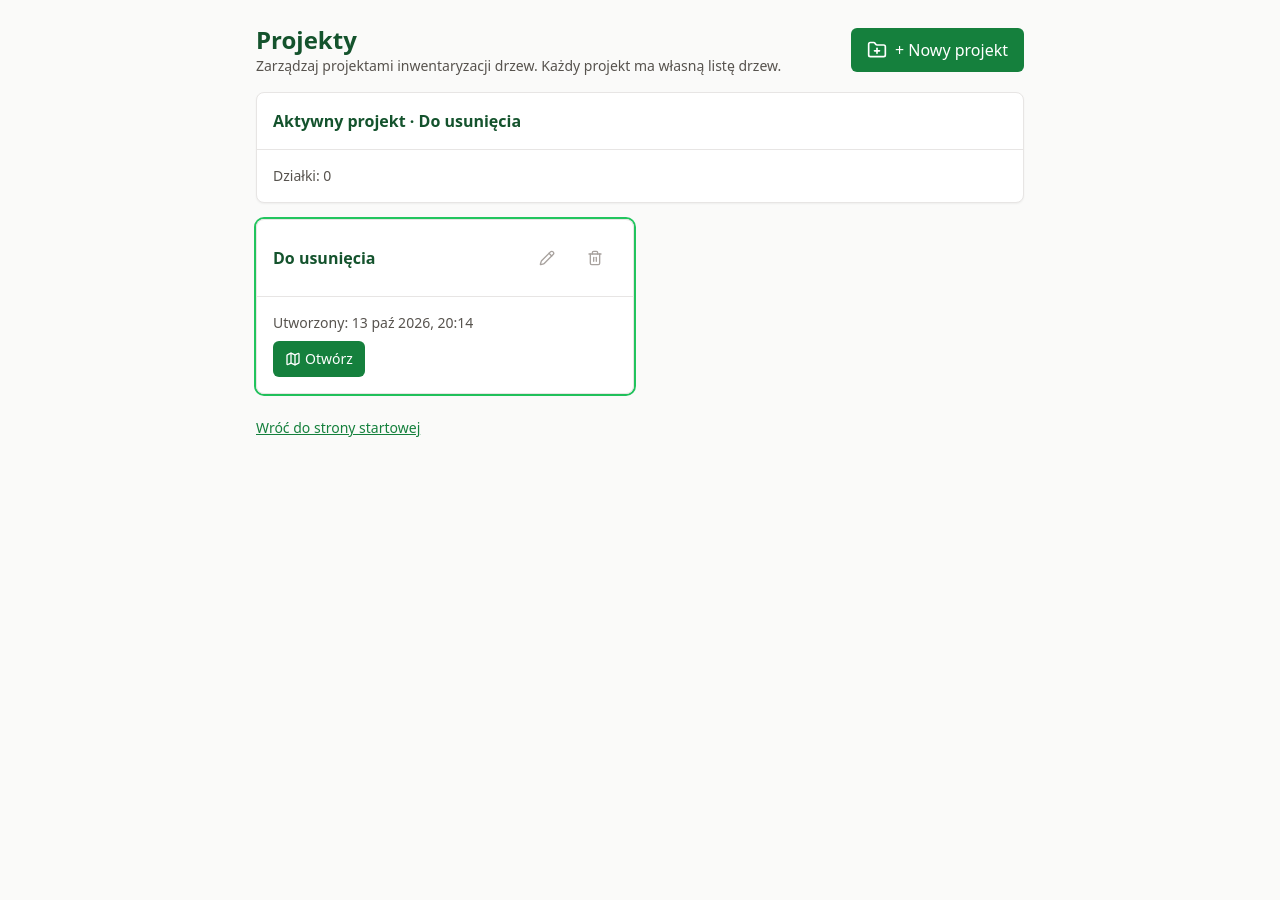
ProjectsPage › should show confirm dialog when delete clicked
Check: the text "Do usunięcia" is shown, box [273,246,376,270]
Click the button with test id "project-delete" at (595, 258), box [573,236,617,280]
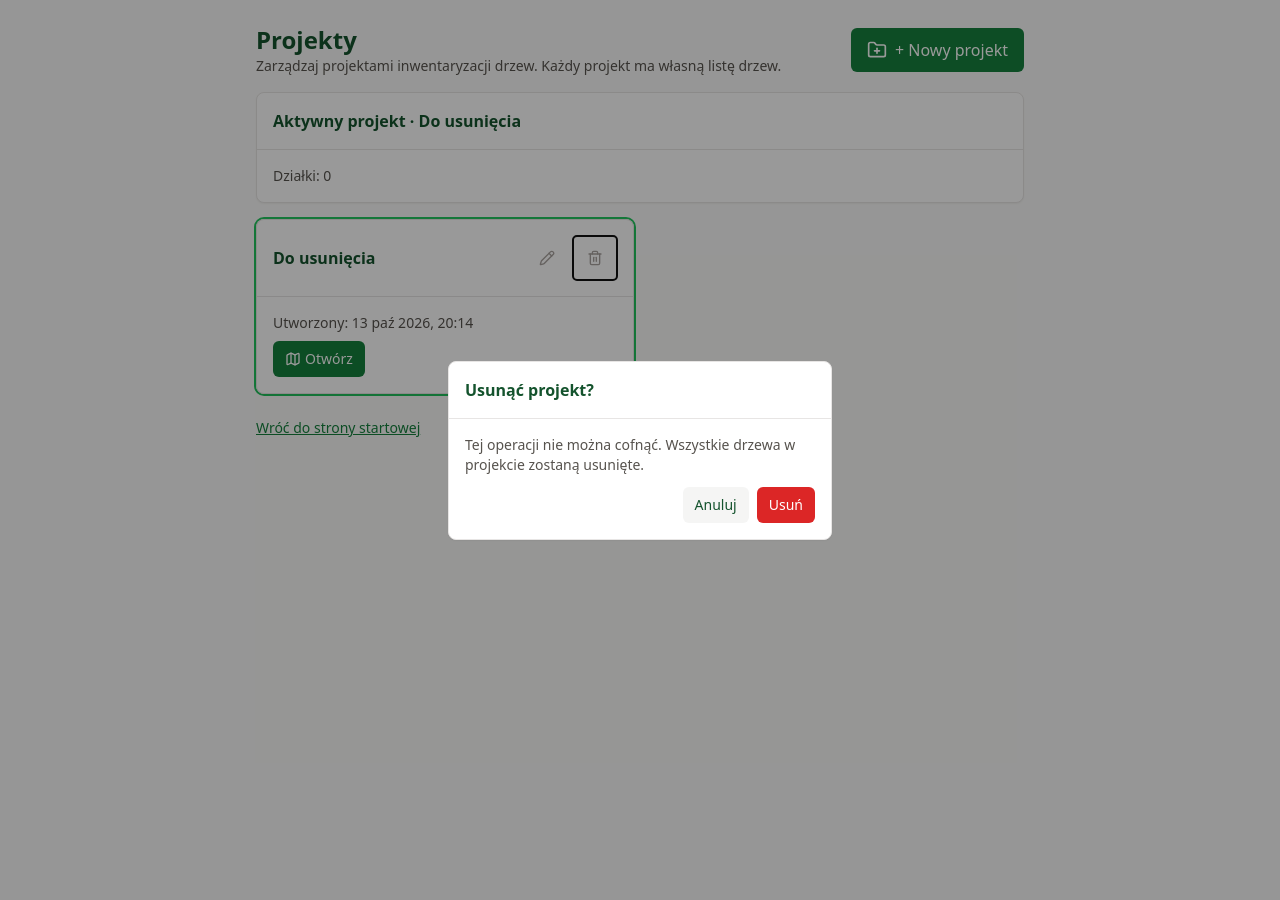
Check: the dialog with test id "confirm-delete" is shown
